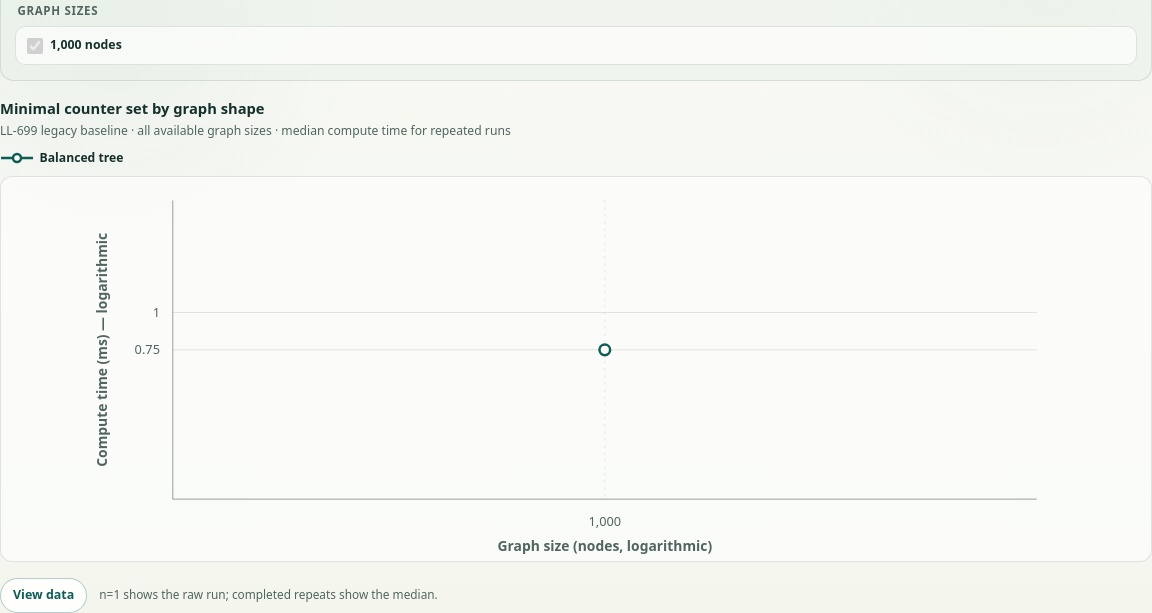
it: InsightsLabTrends › charts early timing aliases for compute and total operation time
This screenshot has width=1152, height=613.
(page scrolled)
Click the button "View data". click: coordinates (44, 595)
box: [0,578,87,612]
(page scrolled)
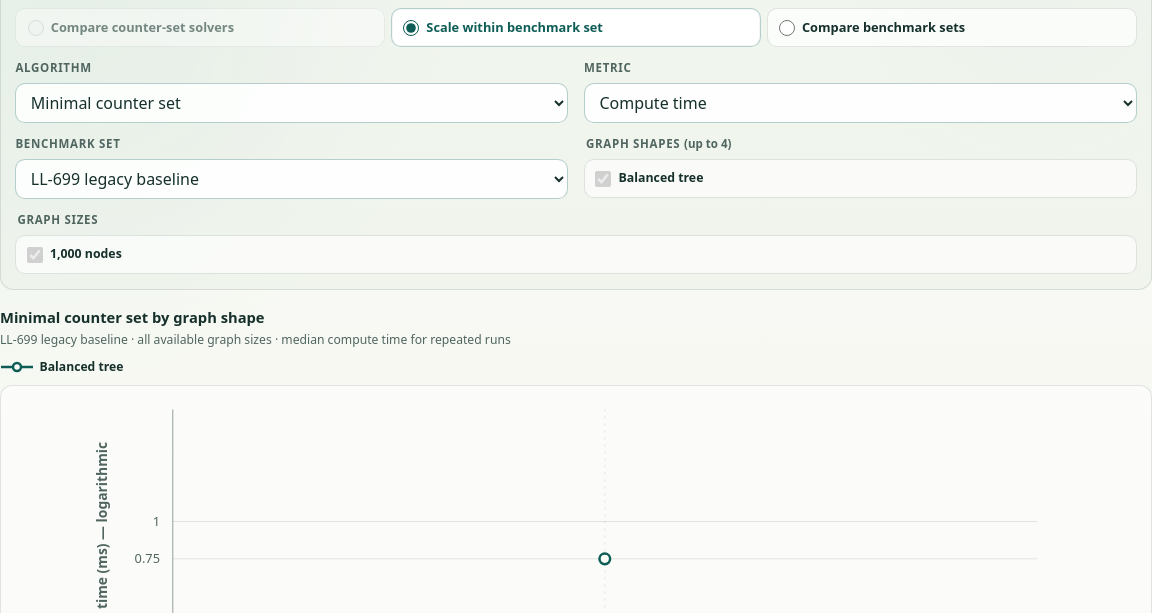
Select "Total operation time" in the dropdown labelled "Metric". click: coordinates (860, 103)
box: [584,83,1137,123]
(page scrolled)
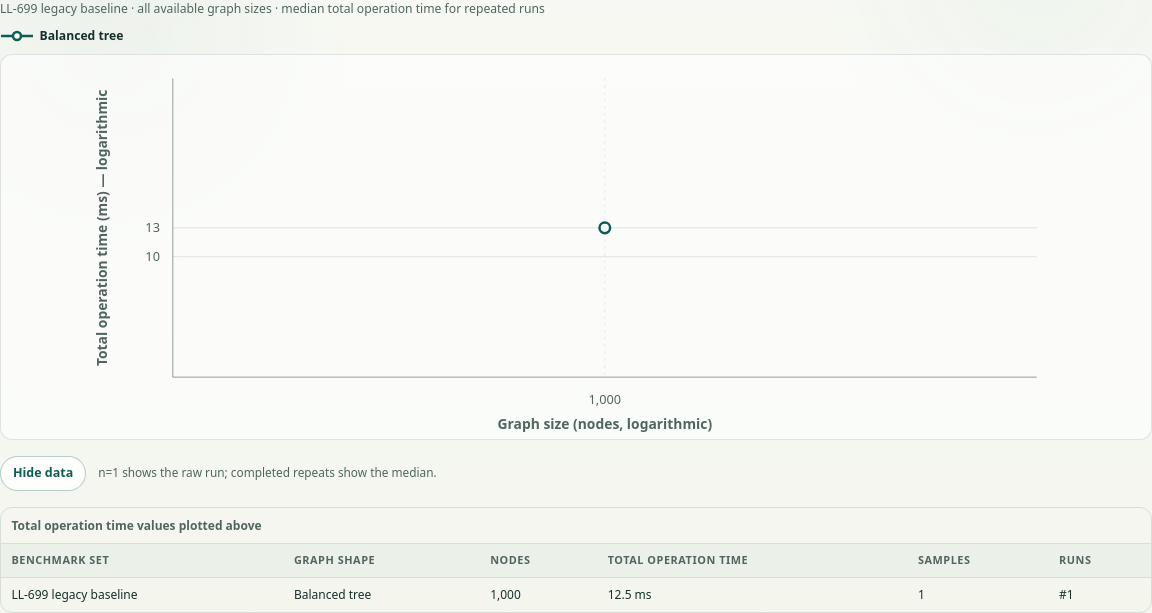
Now the table shows "12.5 ms", box [608,586,652,603]
